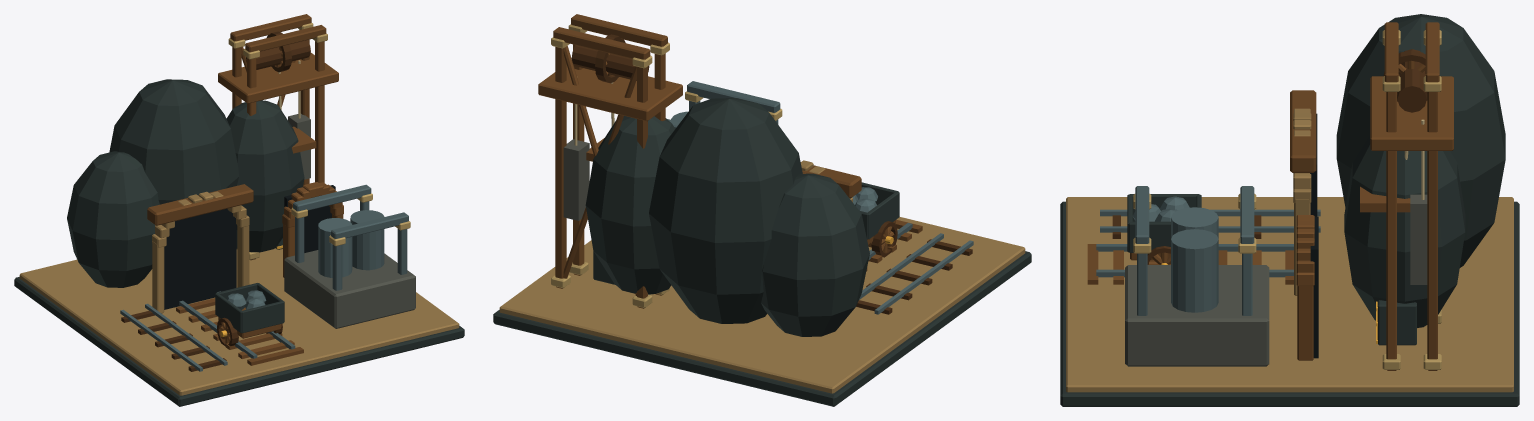
3 renders of one model, left to right at view 1: azimuth 30°, elevation 25°; view 2: azimuth 150°, elevation 25°; view 3: azimuth 270°, elevation 25°, orthographic. The views are drawn at different scales.
Parts seen in each view (by area): view 1: mine_8_structure; view 2: mine_8_structure; view 3: mine_8_structure.
Part boxes in pixels (x1,y1,x2,y2): mine_8_structure: [14, 14, 464, 406]; mine_8_structure: [493, 14, 1031, 406]; mine_8_structure: [1060, 14, 1519, 406].
Bounding box in the file's own units: 5.6 × 4.3 × 5.6.
